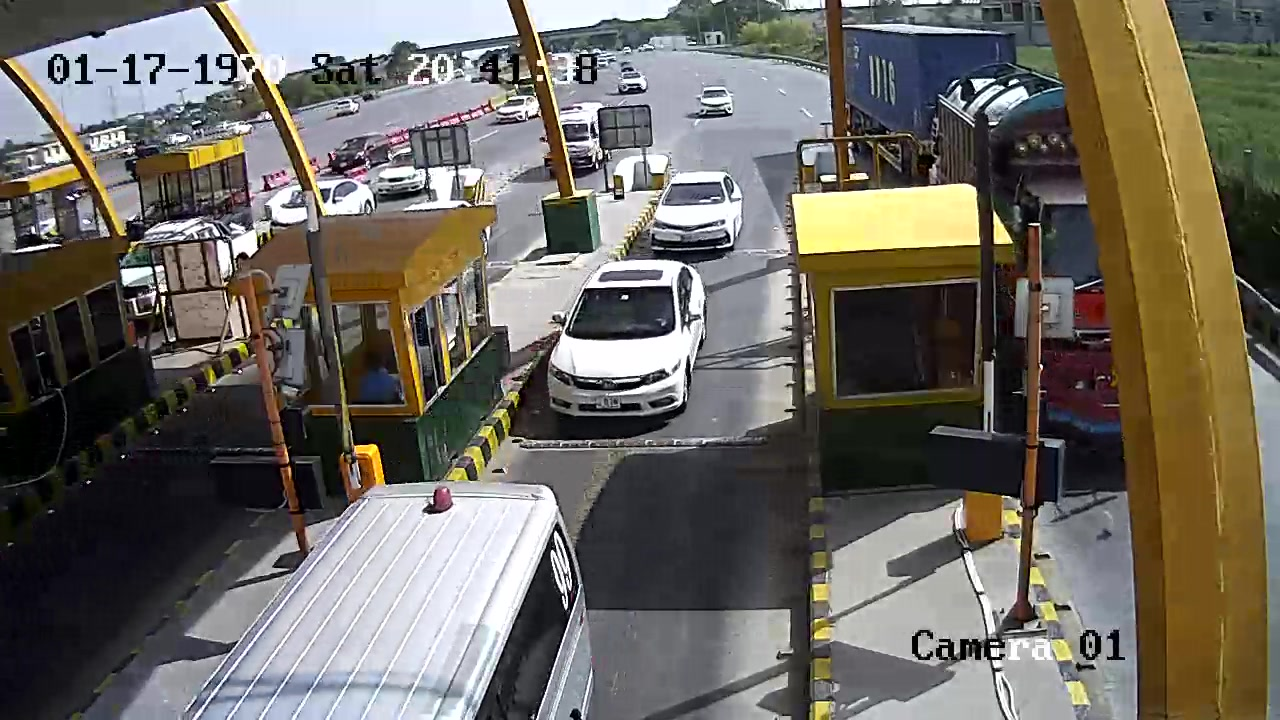F1: (541, 258, 723, 438), (644, 168, 743, 257)
